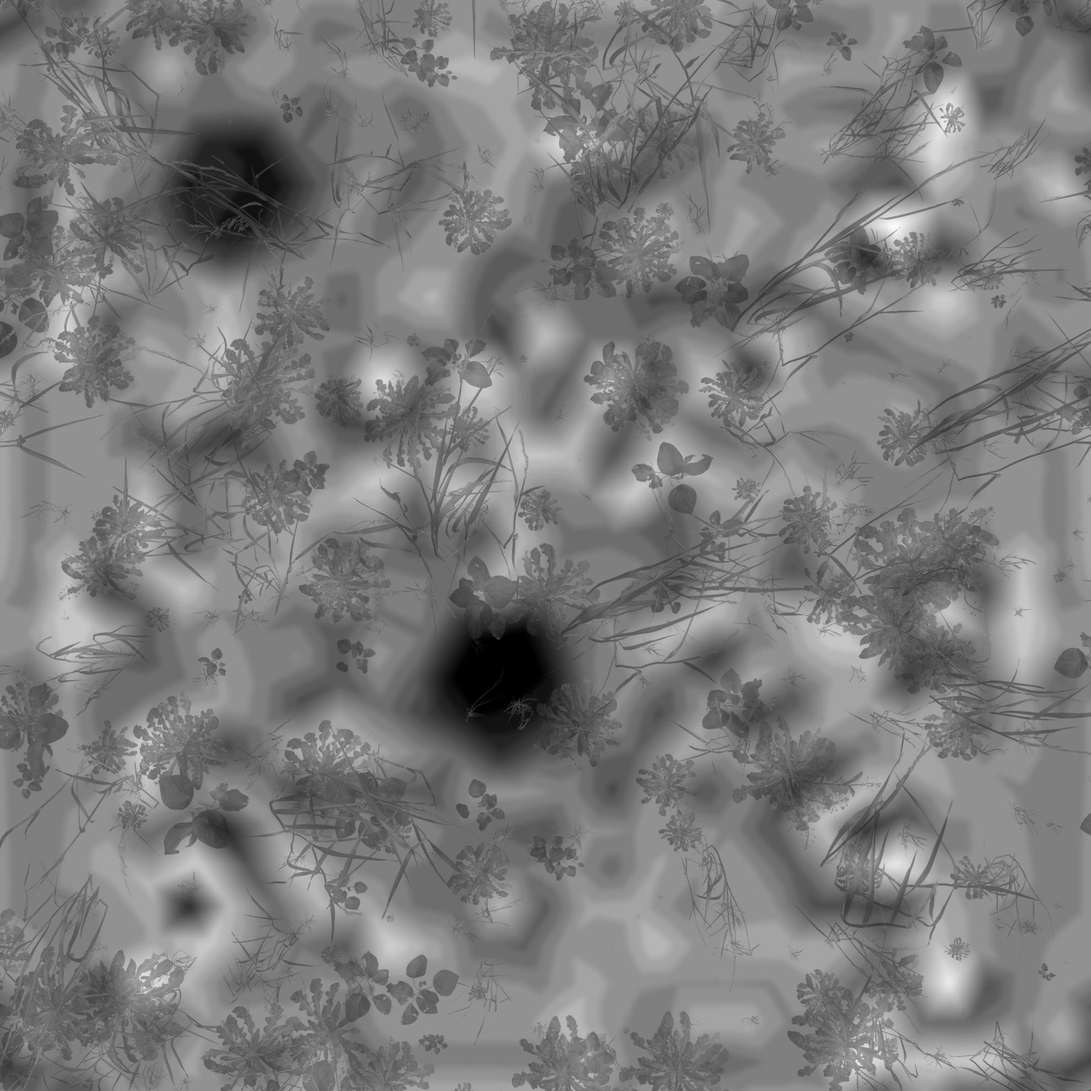landmine: (415, 599, 580, 766), (154, 117, 308, 271)
